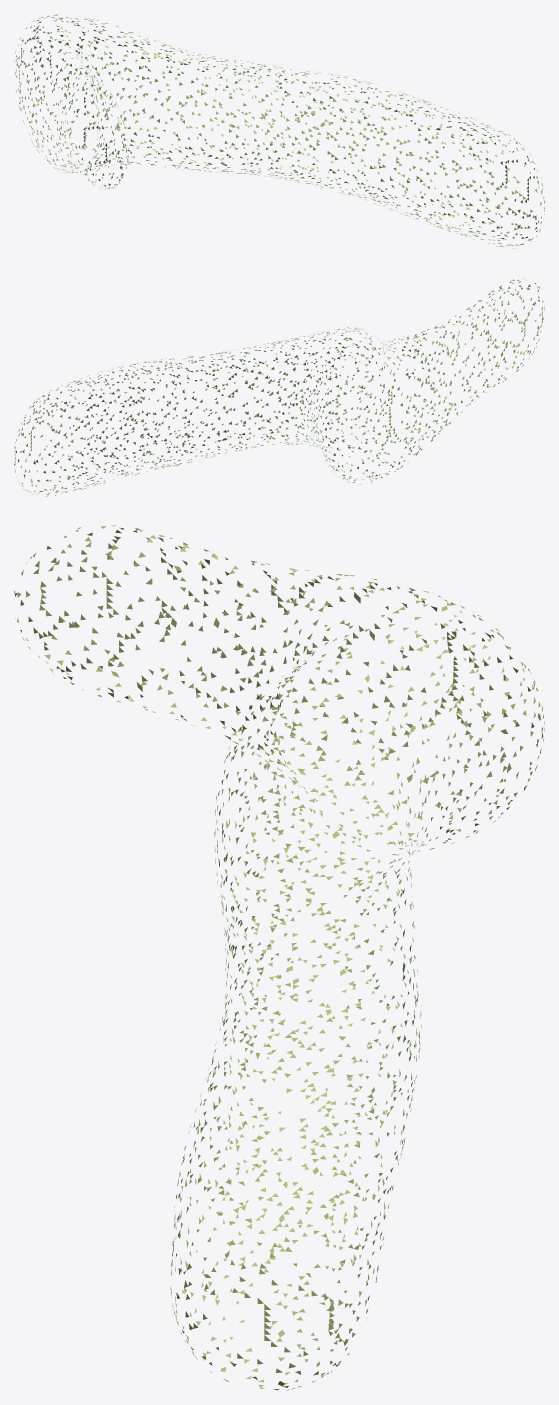
Rendered from morph_011.glb.
3 views of the same model, one above another, from view 1: azimuth 30°, elevation 25°; view 2: azimuth 150°, elevation 25°; view 3: azimuth 270°, elevation 25° (orthographic). The views are drawn at different scales.
Size of the model in its own units: 101 by 60.06 by 58.11.
